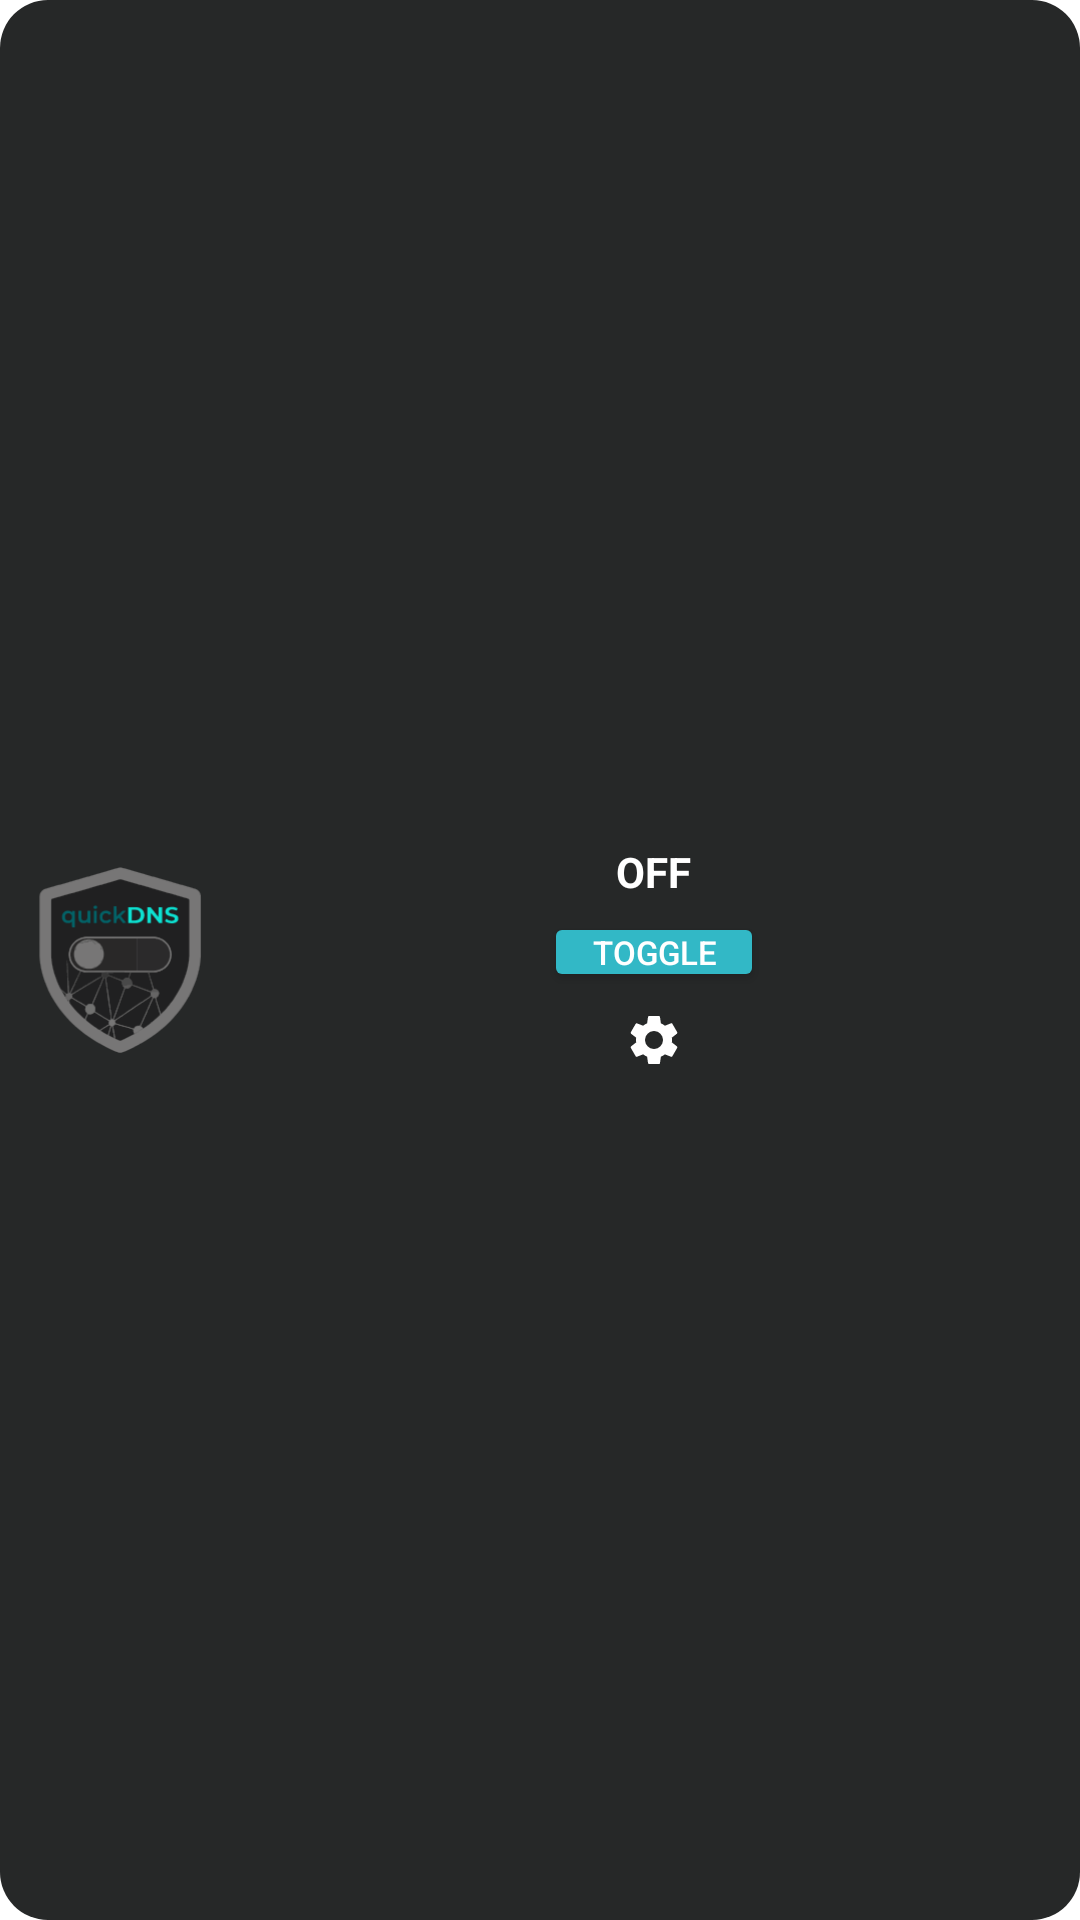

Where icons sit on this 1080 x 1920 app screen, as detection(x1, y1, x2, y2):
Settings: detection(630, 1016, 678, 1064)
